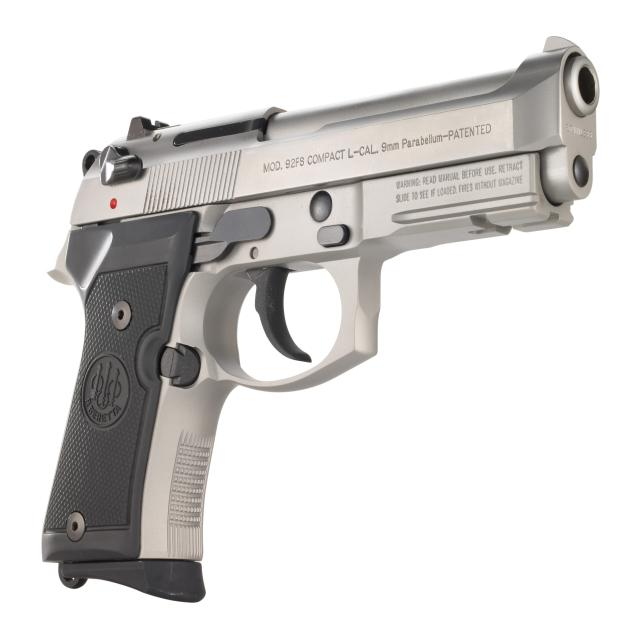Gun: (39, 52, 614, 586)
